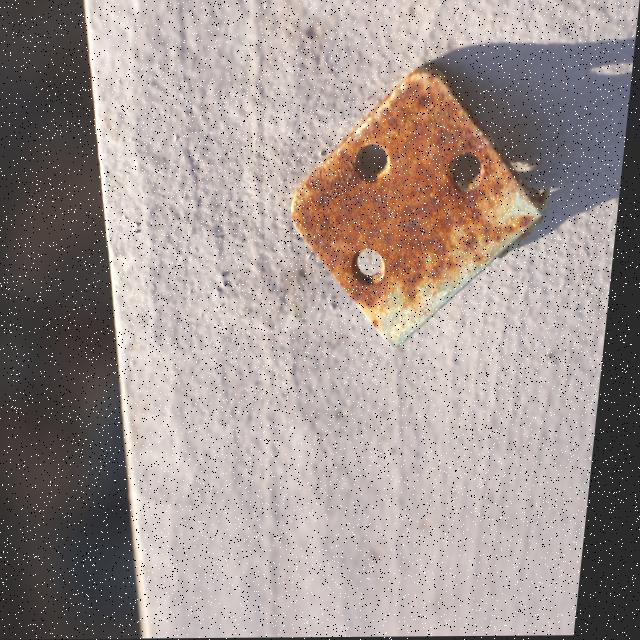corrosion: (287, 71, 545, 318)
